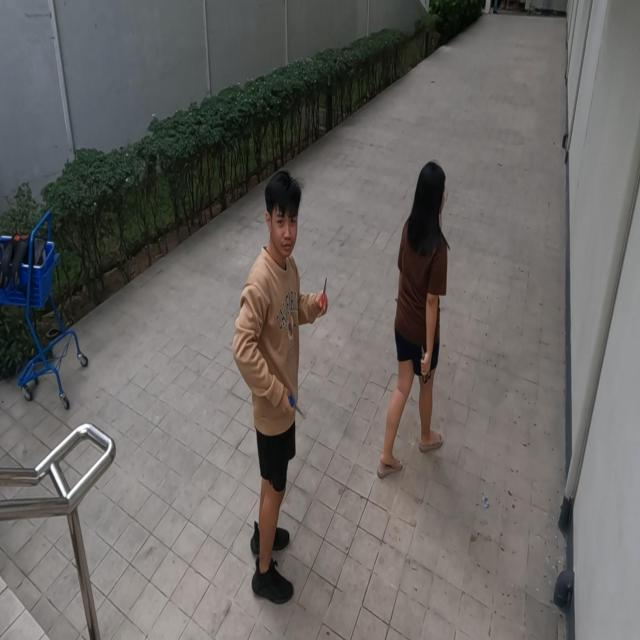scissor: (421, 344, 432, 384), (317, 276, 328, 313)
